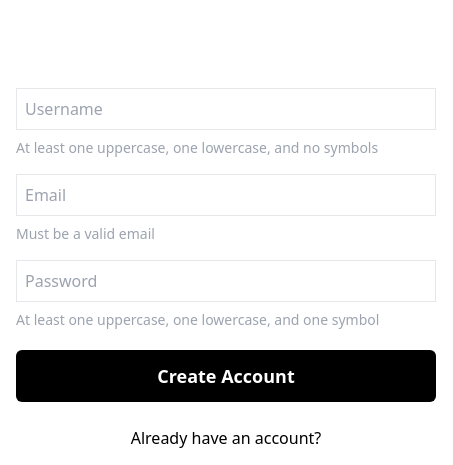
Test: Testing error messages › Create a valid email
This screenshot has width=453, height=465.
Type "Xavian10" into the field with placeholder "Username" at (226, 109), box x1=16 y1=88 x2=436 y2=130
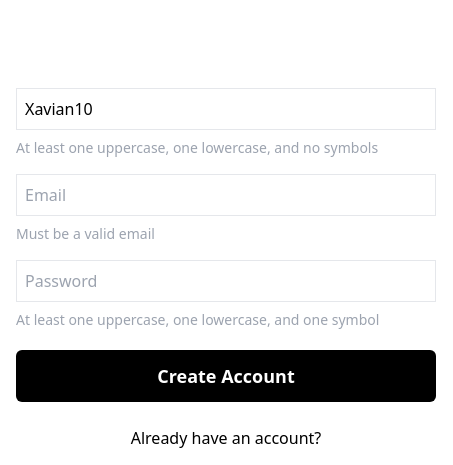
Type "XavianMoody1025gmail.com" into the field with placeholder "Email" at (226, 195), box x1=16 y1=174 x2=436 y2=216
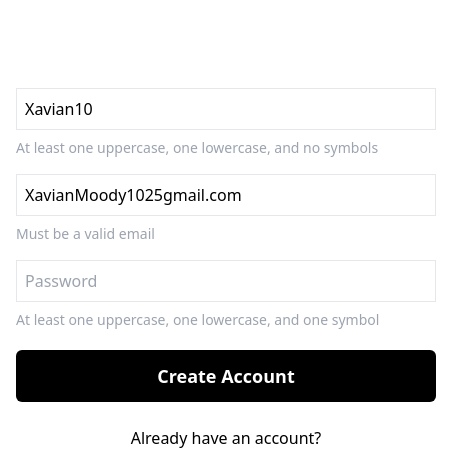
Type "Wwetna123#" into the password field with placeholder "Password" at (226, 281), box x1=16 y1=260 x2=436 y2=302
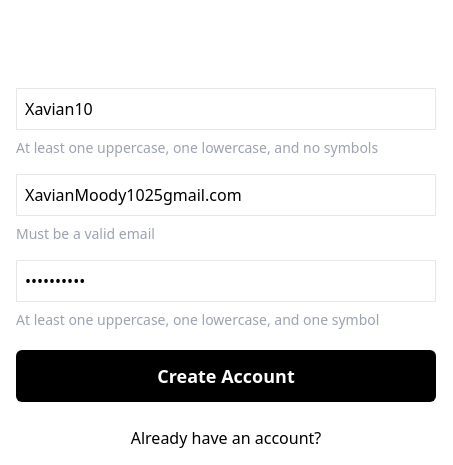
Click the button "Create Account" at (226, 376), box x1=16 y1=350 x2=436 y2=402
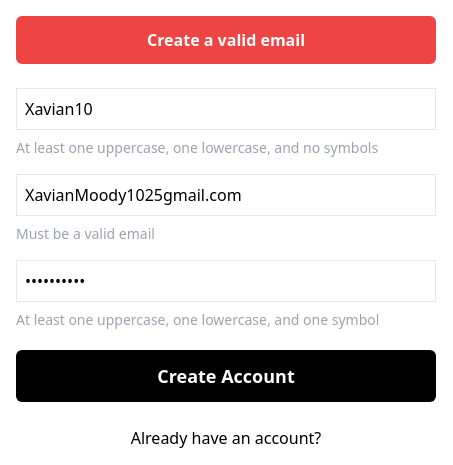
Expected: the text "Create a valid email" is shown, x1=16 y1=16 x2=436 y2=64
